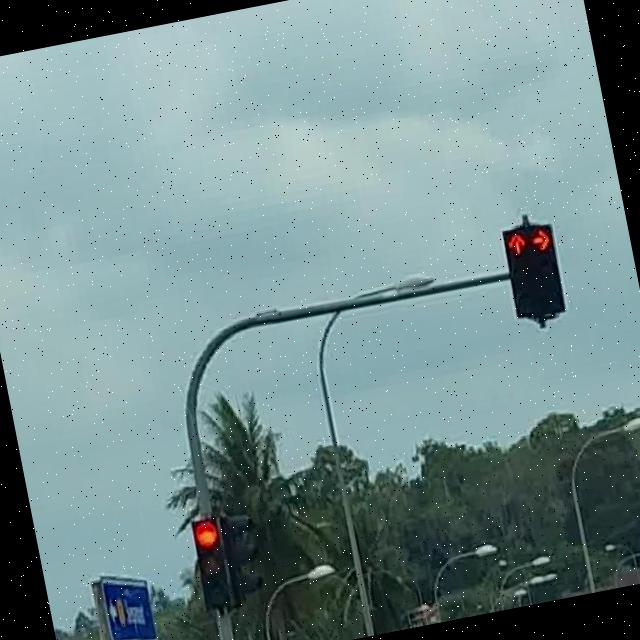red_light: (524, 220, 568, 318), (500, 223, 545, 318), (188, 516, 230, 607)
